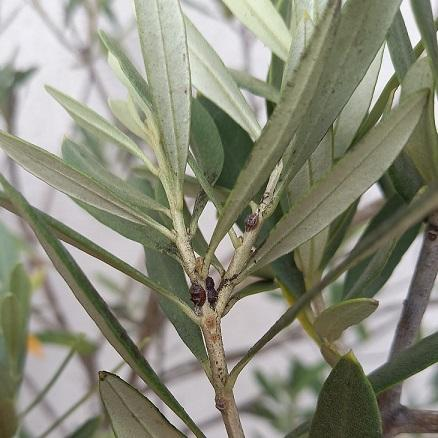BlackScale: (186, 274, 222, 314)
